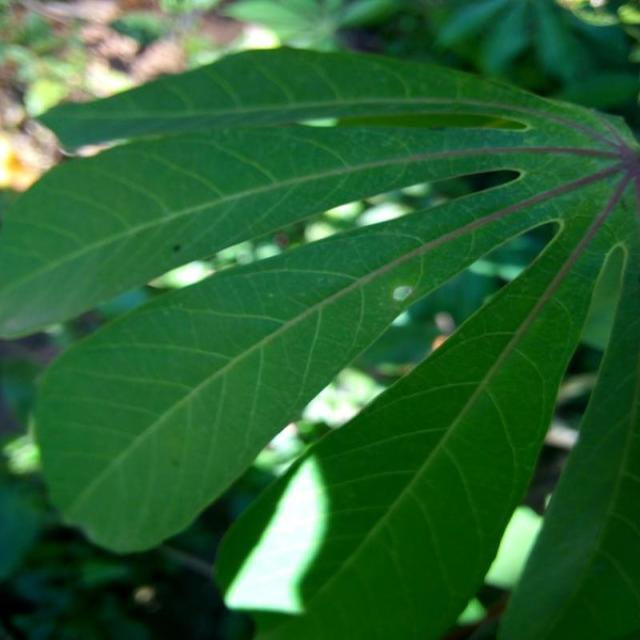cassava leaf: (1, 44, 638, 638)
